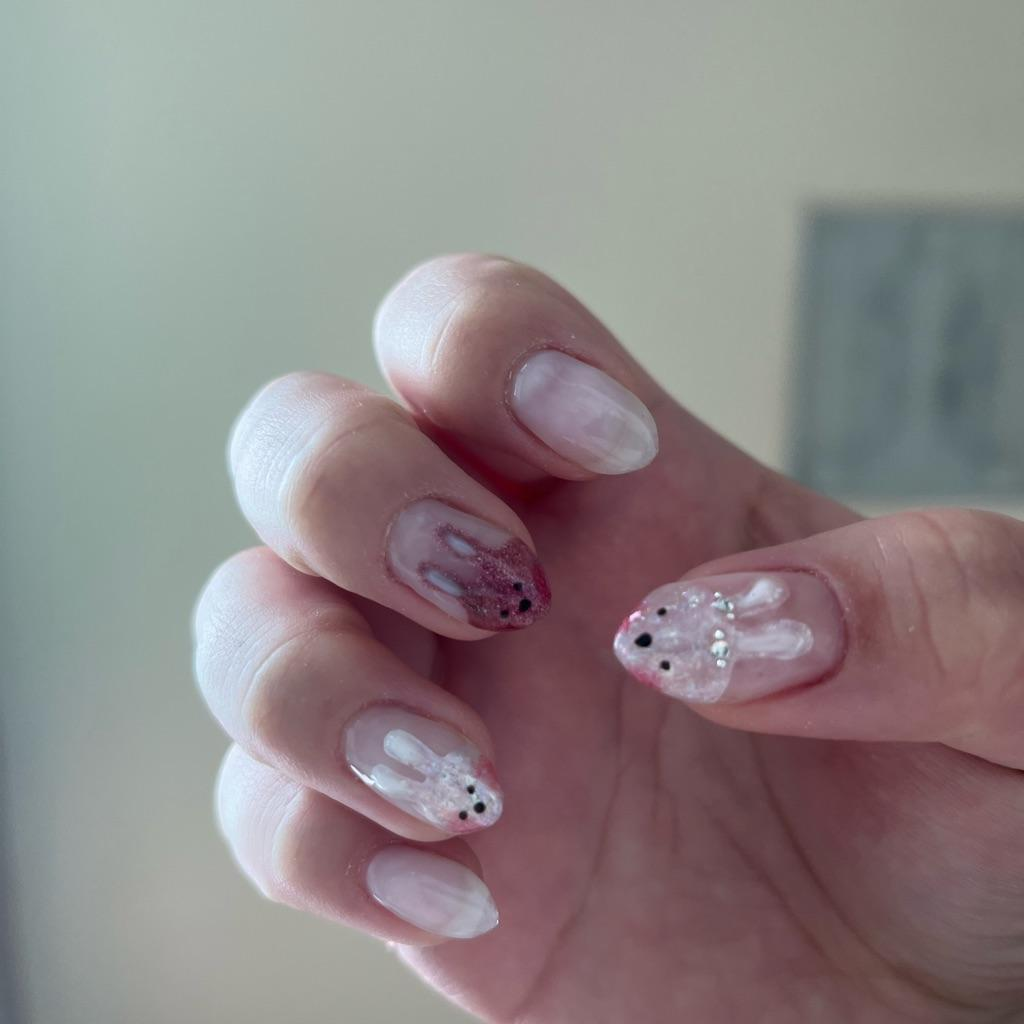nail: (612, 565, 847, 706), (382, 496, 552, 632), (339, 700, 504, 838), (502, 343, 660, 477), (361, 842, 500, 940)
